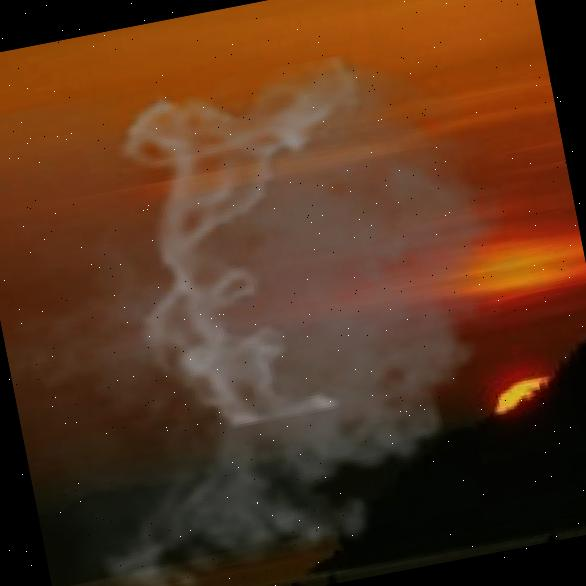smoke: (0, 21, 586, 586)
